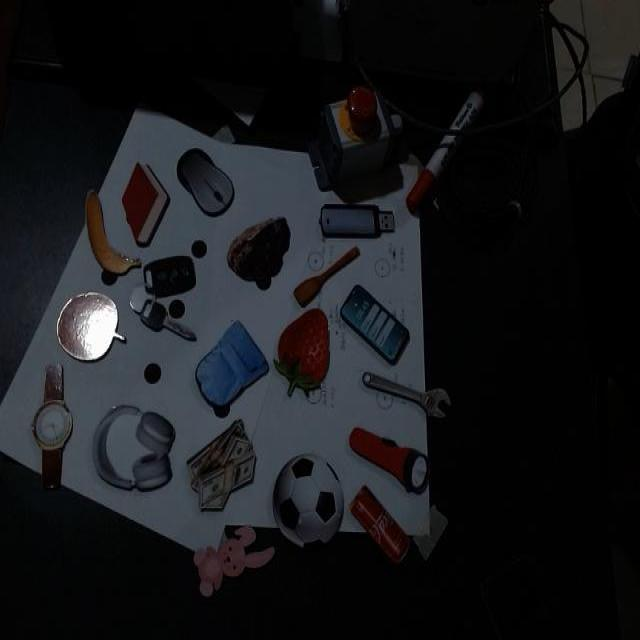Other Objects: (187, 315, 273, 428), (334, 278, 414, 372), (93, 405, 175, 492), (342, 423, 434, 498), (171, 134, 240, 228), (273, 455, 343, 545), (187, 419, 255, 511), (193, 525, 274, 597), (339, 283, 410, 365), (290, 232, 361, 312), (130, 254, 196, 340), (30, 361, 73, 491), (347, 484, 414, 567), (129, 256, 195, 339), (84, 188, 141, 275), (55, 292, 124, 362), (361, 369, 451, 419), (226, 215, 290, 281), (320, 204, 394, 238)
